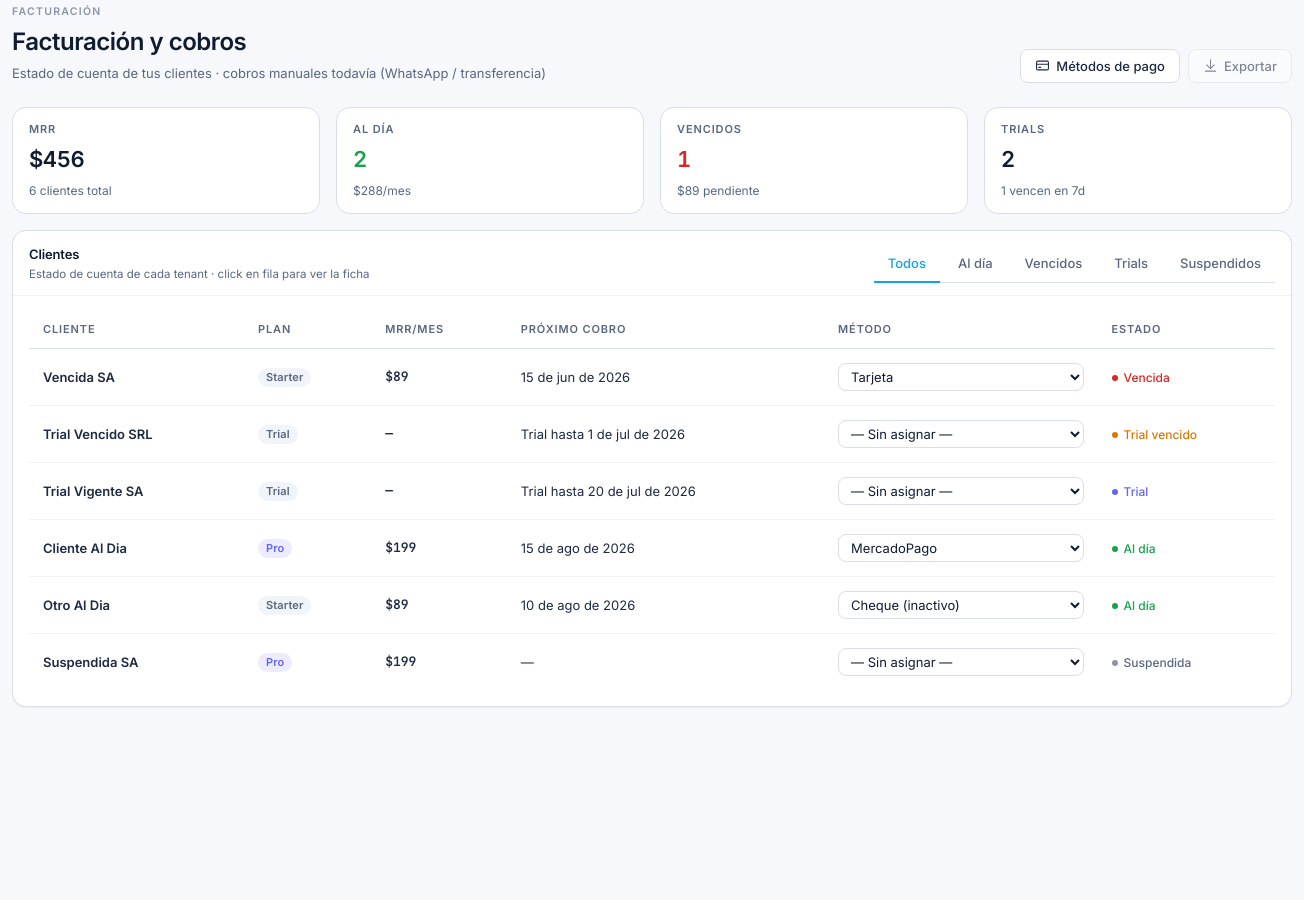
Test: Pantalla Facturación (admin) — v2 estado de cuenta › filtra por tab Trials (muestra ambos: vigente + vencido)
The width and height of the screenshot is (1304, 900).
Expected: the text "Vencida SA" is shown, [29,349,244,406]
What coordinates should you click on to do the following:
click the tab "Trials"
I would click on:
 (1131, 264)
Its box is [1100,245,1162,283].
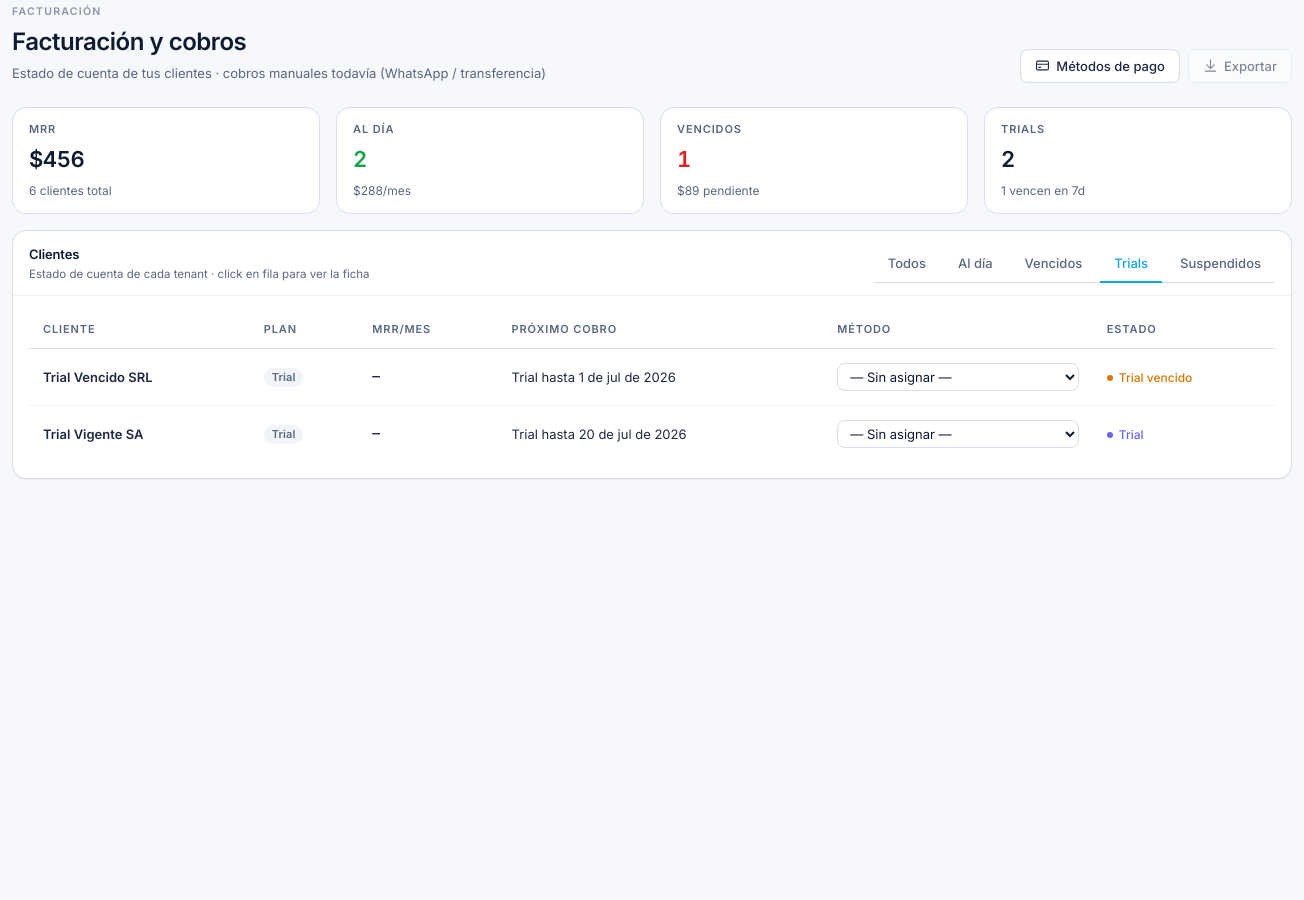
Expected: the text "Trial Vencido SRL" is shown, [29,349,250,406]
Now the text "Vencida SA" is gone
Now the text "Cliente Al Dia" is gone
